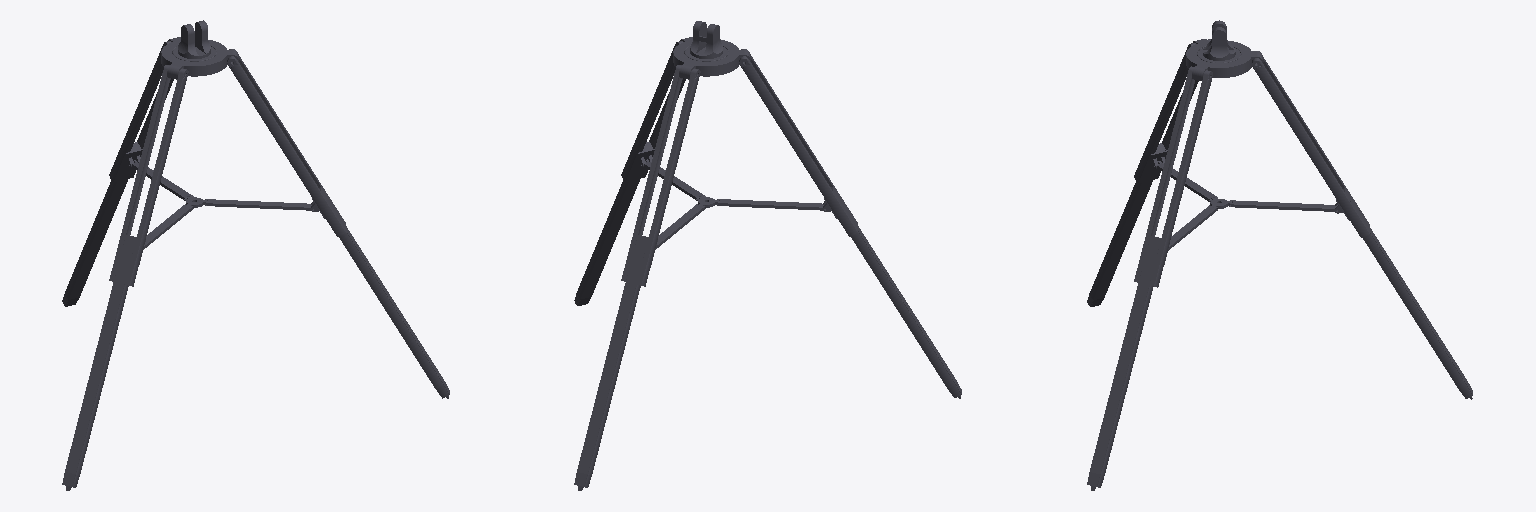
robot.urdf — robot:
<?xml version="1.0" ?>
<robot xmlns:xacro="http://www.ros.org/wiki/xacro">

  <material name="green">
    <color rgba="0.0 0.8 0.0 1.0"/>
  </material>
  <material name="red">
    <color rgba="0.949 0.321 0.274 1.0"/>
  </material>
  <material name="grey">
    <color rgba="0.7 0.7 0.7 1.0"/>
  </material>
  <material name="dark_grey">
    <color rgba="0.35 0.35 0.39 1.0"/>
  </material>
  <material name="yellow">
    <color rgba="1.0 0.78 0 1.0"/>
  </material>

  <link name="tripod">
     <visual>
      <origin rpy="1.57 0 0" xyz="0 0 0"/>
      <geometry>
        <mesh filename="package://scanner_description/meshes/tripod.stl" scale="0.001 0.001 0.001"/>
      </geometry>
      <material name="dark_grey"/>
    </visual>
  </link>

  <link name="base_link">
     <visual name="base_link_visual">
      <origin rpy="0 0 0" xyz="-0.021 -0.021 0"/>
      <geometry>
        <mesh filename="package://scanner_description/meshes/nema17.stl" scale="0.001 0.001 0.001"/>
      </geometry>
      <material name="red"/>
    </visual>
  </link>

   <joint name="tripod_joint" type="fixed">
    <parent link="tripod"/>
    <child link="base_link"/>
    <origin rpy="0 0 0" xyz="0 0.0 1.3"/>
  </joint>

  <link name="head"/> 

  <joint name="head_joint" type="revolute">
    <parent link="base_link"/>
    <child link="head"/>
    <origin rpy="0 0 0" xyz="0 0 0.05"/>
    <axis xyz="0 0 1"/>
    <limit effort="10.0" lower="0" upper="3.14" velocity="0.5"/>
  </joint>

  <link name="neato_laser">
    <visual>
      <origin rpy="0 0 -1.57" xyz="0 0 0"/>
      <geometry>
        <mesh filename="package://scanner_description/meshes/lidar.stl" scale="0.001 0.001 0.001"/>
      </geometry>
      <material name="yellow"/>
    </visual>
  </link>

  <joint name="neato_laser_joint" type="fixed">
    <parent link="head"/>
    <child link="neato_laser"/>
    <origin rpy="0 -1.57 0" xyz="0 0.0 0.06"/>
  </joint>
  
  <link name="pointcloud"/>

   <joint name="pointcloud_joint" type="fixed">
    <parent link="base_link"/>
    <child link="pointcloud"/>
    <origin rpy="0 0 0" xyz="0 0.0 0.11"/>
  </joint>

</robot>

--- Render facts (derived) ---
3 views of the same robot in one strip: view 1: azimuth 30°, elevation 25°; view 2: azimuth 150°, elevation 25°; view 3: azimuth 270°, elevation 25° (orthographic).
Model robot with 5 links and 4 joints (1 revolute, 3 fixed), rooted at tripod, posed every joint at zero.
Links seen in each view (by area): view 1: tripod; view 2: tripod; view 3: tripod.
Link boxes in pixels (bbox=[...]): tripod: bbox=[62, 20, 449, 490]; tripod: bbox=[574, 21, 961, 490]; tripod: bbox=[1087, 20, 1472, 490].
Size in the robot's own frame: 1.38 by 1.2 by 1.28 metres.
1 mesh visuals loaded from 3 distinct referenced files (1 binary STL); not drawn: 2 (reference not matched to a file when rendering).